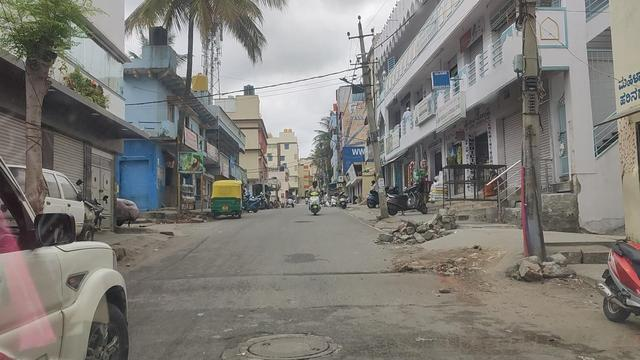RoadDamages: (228, 314, 339, 360), (333, 265, 416, 282)
